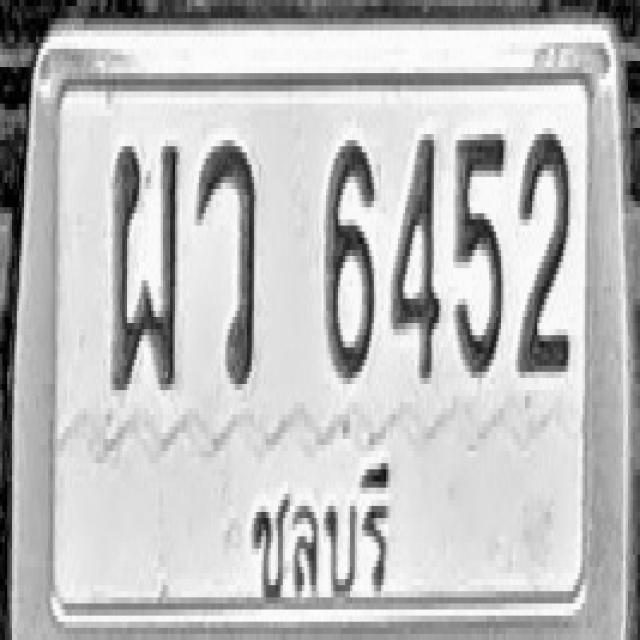2: (517, 111, 579, 408)
37PhorPhueng: (101, 110, 182, 406)
4: (382, 119, 452, 428)
46WorWaen: (188, 119, 274, 427)
5: (451, 114, 516, 406)
6: (312, 124, 384, 394)
Chonburi: (236, 446, 418, 614)
